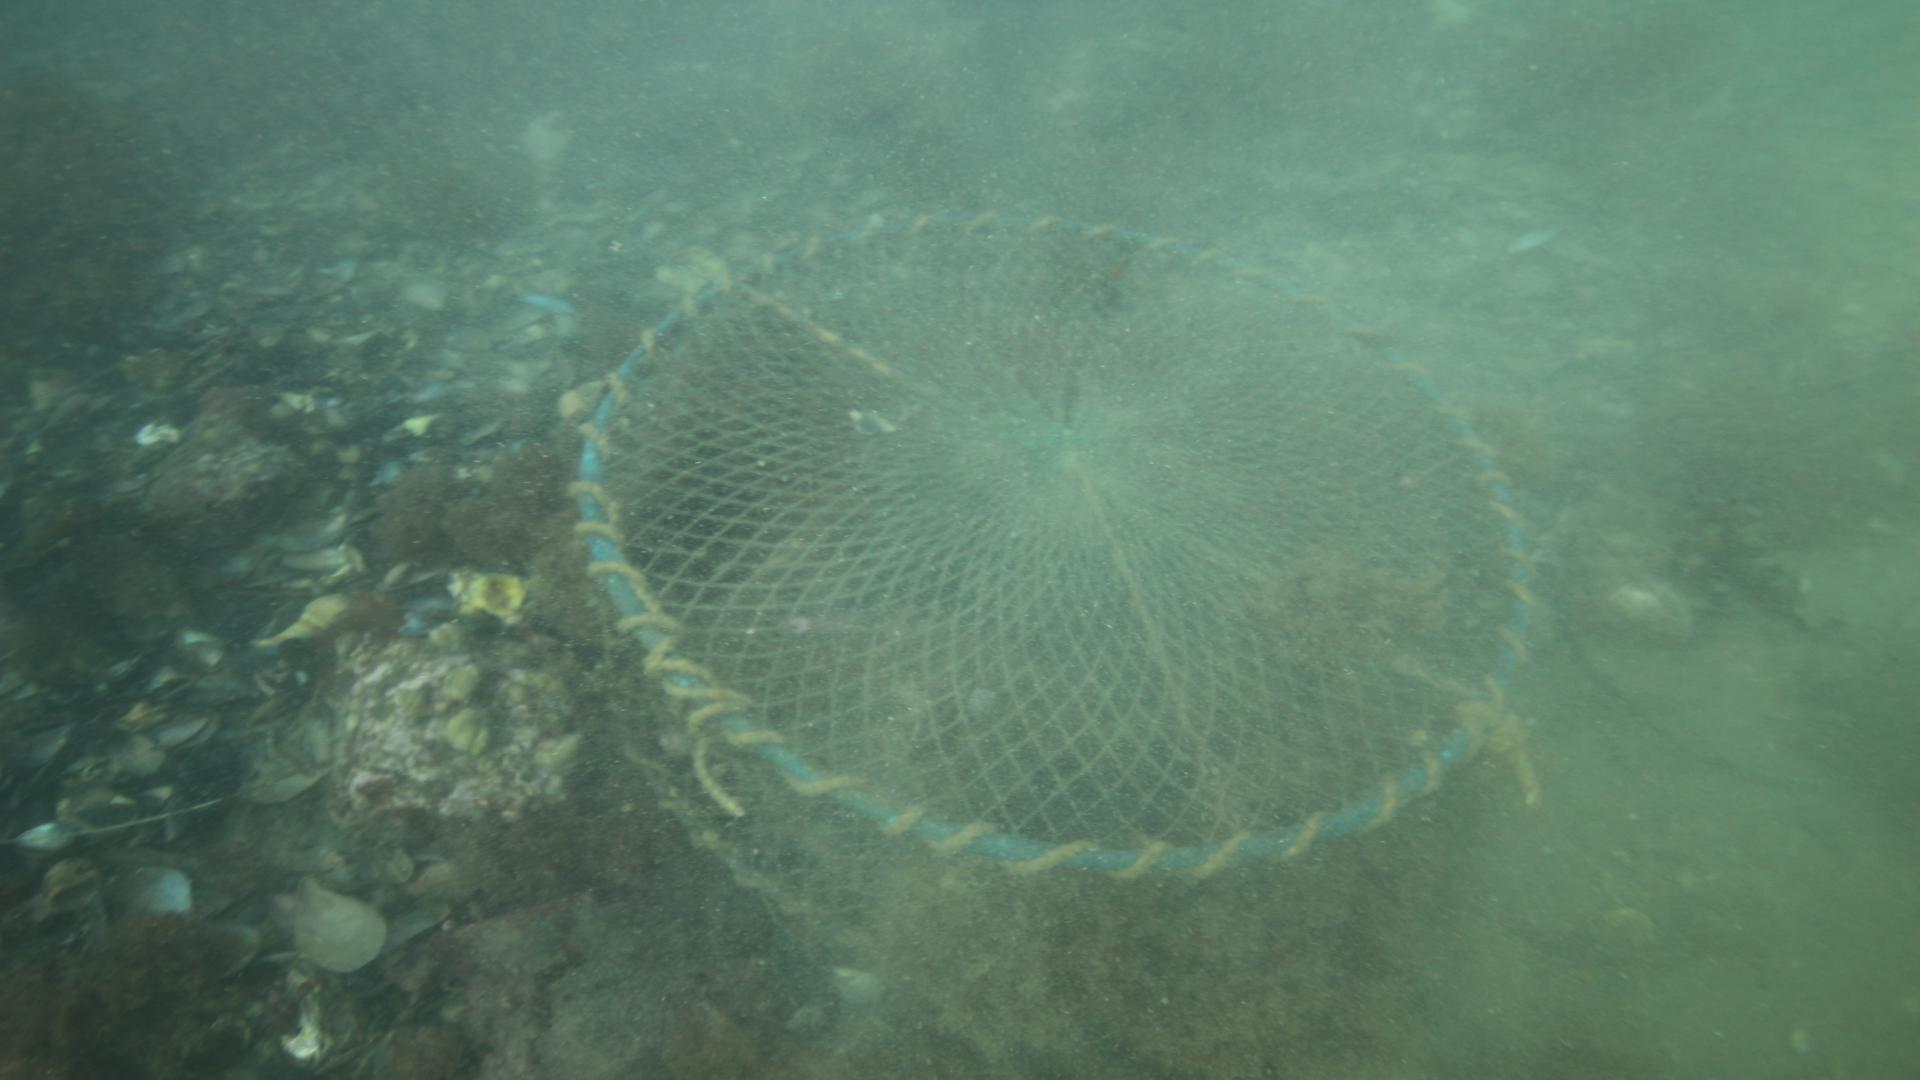circular fish trap: (564, 208, 1534, 953)
